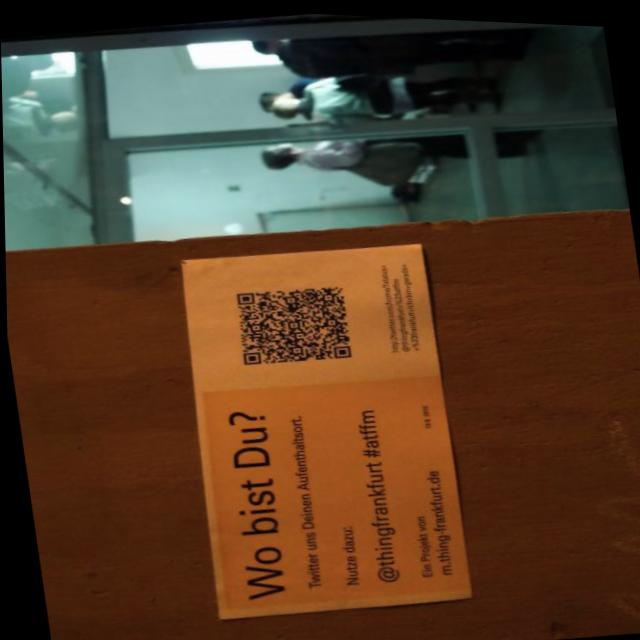qrcode: (233, 278, 351, 366)
